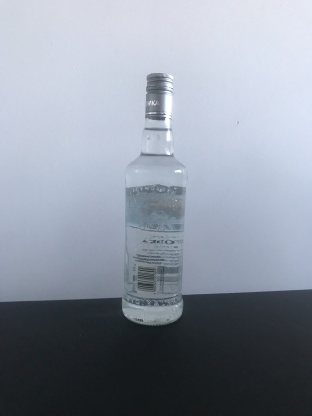nakretka: (144, 71, 175, 121)
